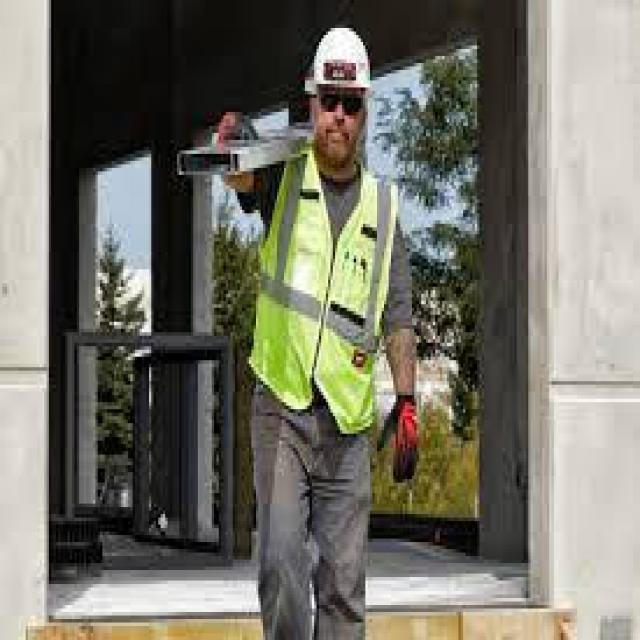hat: (312, 28, 372, 88)
